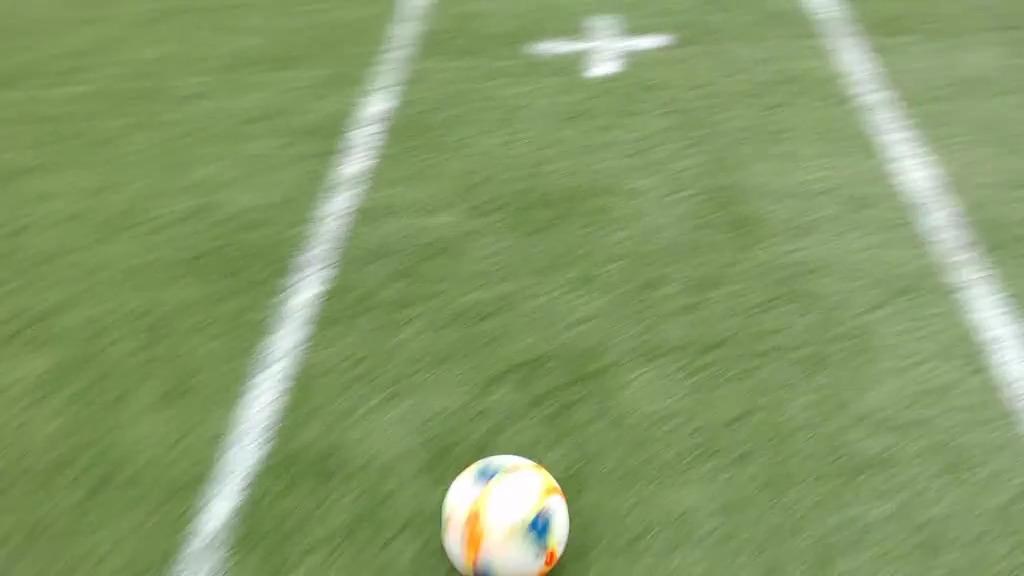ball: (439, 453, 568, 576)
